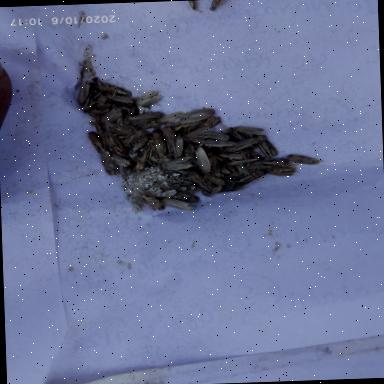pbw: (178, 106, 214, 124), (220, 136, 260, 152), (137, 190, 166, 212), (94, 81, 133, 97), (132, 90, 162, 110), (82, 86, 103, 114), (160, 155, 194, 171), (160, 196, 194, 212), (99, 149, 119, 176), (286, 152, 326, 165), (128, 132, 151, 154), (188, 170, 211, 192), (153, 131, 170, 160), (248, 158, 288, 170), (103, 90, 135, 105), (134, 147, 153, 172), (162, 125, 178, 154), (230, 170, 268, 182), (182, 127, 212, 142), (196, 147, 212, 175), (206, 151, 222, 177), (109, 132, 127, 155), (87, 130, 104, 154), (268, 164, 297, 178), (92, 117, 112, 137), (128, 111, 164, 122), (198, 138, 236, 148), (76, 80, 91, 105), (205, 0, 231, 14), (158, 111, 184, 125), (206, 182, 236, 194), (110, 152, 132, 168), (110, 104, 125, 127), (232, 125, 263, 136), (87, 102, 108, 118), (172, 134, 186, 158), (100, 109, 122, 124), (255, 140, 272, 159), (217, 150, 246, 160), (80, 96, 96, 114), (205, 173, 227, 186), (108, 122, 130, 135), (172, 192, 200, 202), (228, 157, 258, 166), (264, 138, 279, 156), (124, 128, 143, 142), (137, 119, 161, 130), (226, 128, 247, 140), (201, 118, 222, 130), (207, 130, 230, 140), (176, 122, 204, 130), (227, 163, 241, 177), (208, 190, 238, 196), (236, 164, 250, 176), (185, 140, 195, 156), (187, 0, 199, 12), (216, 164, 230, 174), (234, 182, 249, 190), (192, 198, 201, 204)
